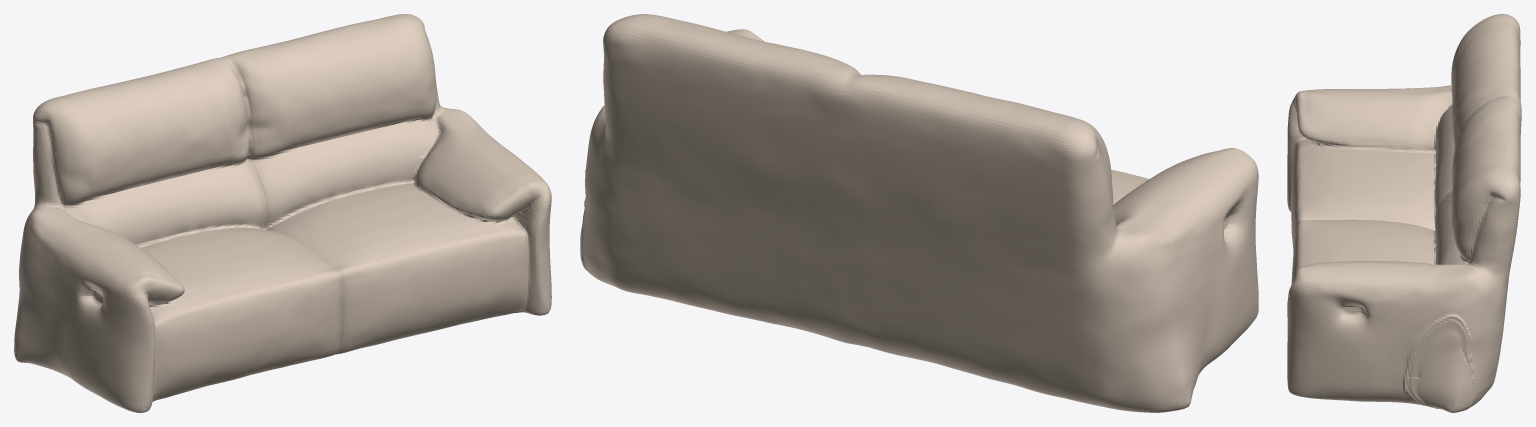
The picture shows the model from 3 angles, left to right: view 1: azimuth 30°, elevation 25°; view 2: azimuth 150°, elevation 25°; view 3: azimuth 270°, elevation 25°; orthographic projection. The views are drawn at different scales.
Visible parts, largest first — view 1: world; view 2: world; view 3: world.
Boxes of the visible parts, x1=… form: world: x1=14, y1=14, x2=551, y2=412; world: x1=580, y1=14, x2=1258, y2=412; world: x1=1287, y1=14, x2=1521, y2=412.
Bounding box in the file's own units: 1.96 × 0.8971 × 0.8924.
